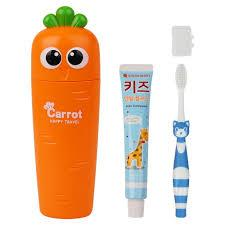toothpaste: (115, 61, 155, 219)
